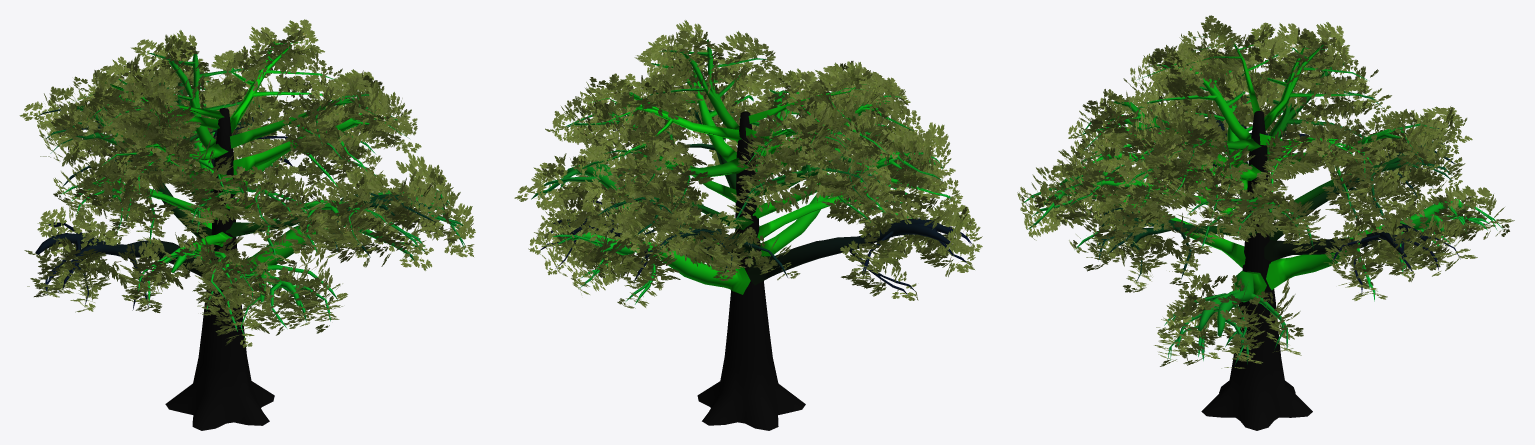
Rendered from tree_new.fbx.
The picture shows the model from 3 angles, left to right: view 1: azimuth 30°, elevation 25°; view 2: azimuth 150°, elevation 25°; view 3: azimuth 270°, elevation 25°; orthographic projection.
Visible parts, largest first — view 1: branch05_1, bark07_0; view 2: branch05_1, bark07_0; view 3: branch05_1, bark07_0.
Boxes of the visible parts, left/top/right/bottom form: branch05_1: left=19, top=19, right=475, bottom=347; bark07_0: left=35, top=41, right=465, bottom=430; branch05_1: left=514, top=20, right=982, bottom=308; bark07_0: left=531, top=39, right=971, bottom=430; branch05_1: left=1017, top=15, right=1514, bottom=368; bark07_0: left=1024, top=36, right=1503, bottom=430.
Size of the model in its own units: 1166 by 867 by 1143.
Materials: 1 (1 with a texture image).
